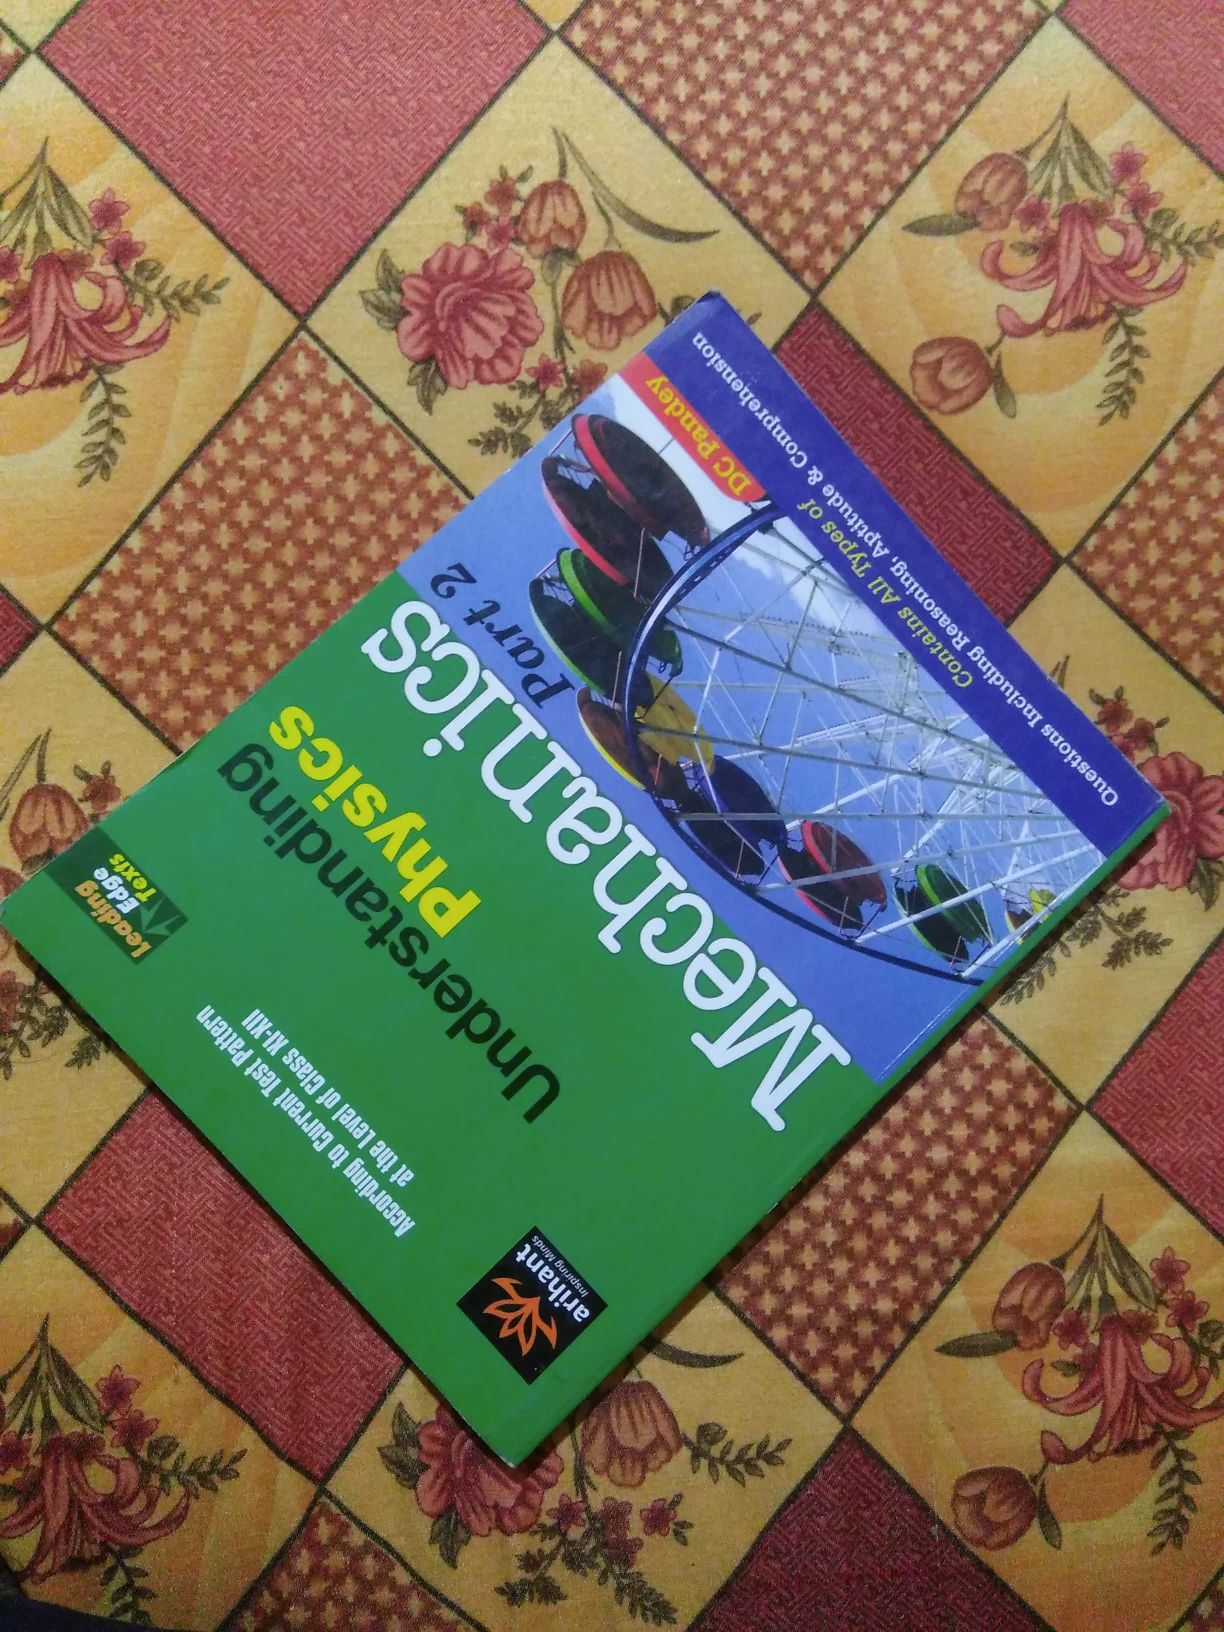mechanics: (69, 371, 1090, 1399)
